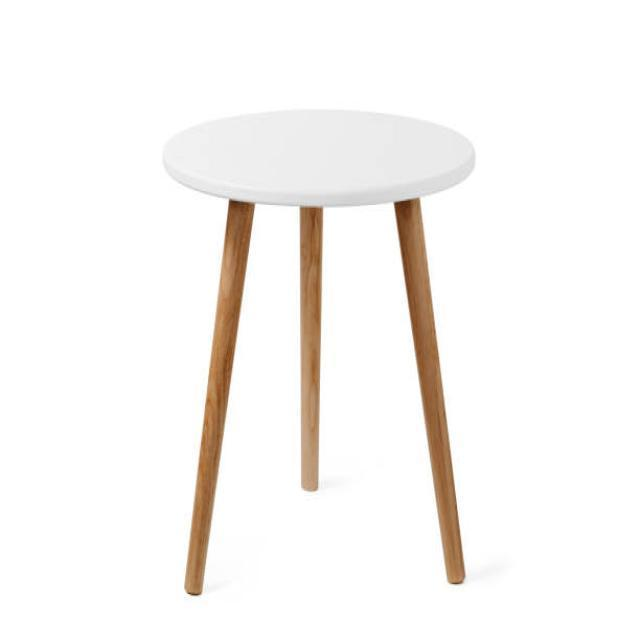table: (161, 105, 476, 596)
